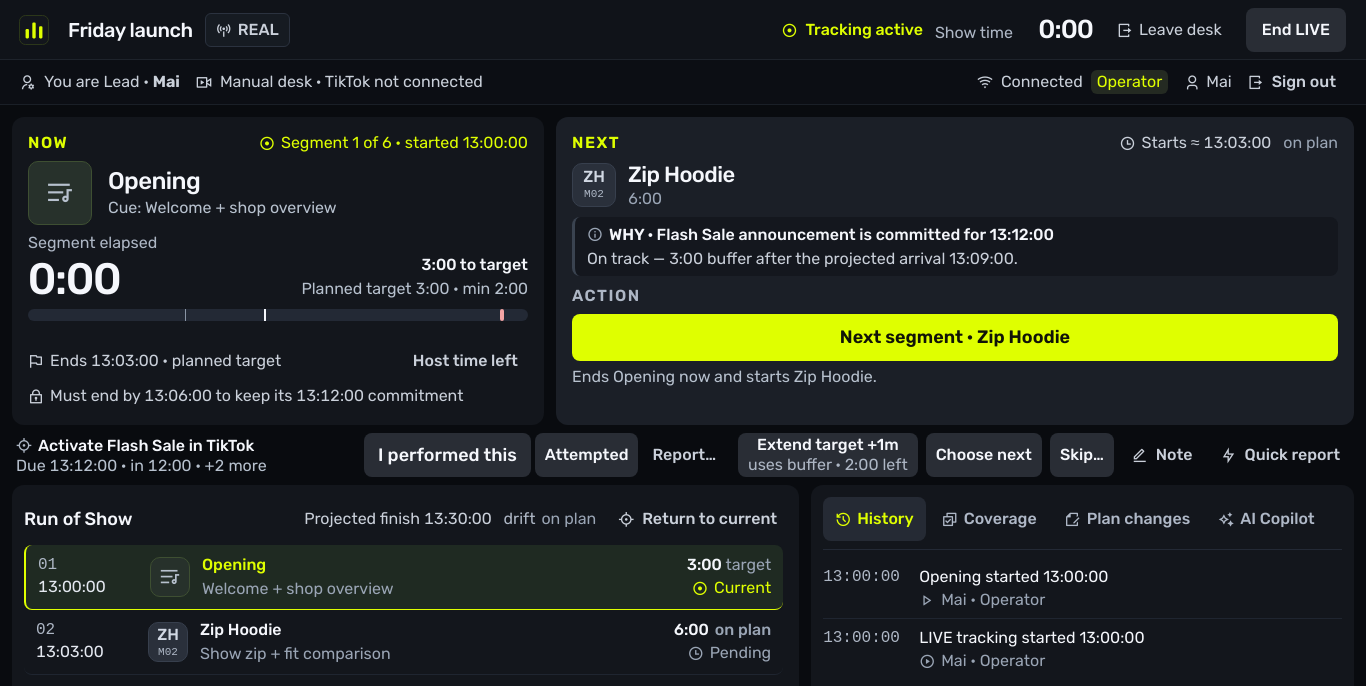
Test case: REAL Operate: operator › shows connected + operator, and a note is recorded by the room, not by the browser
Expected: the button with test id "extend-plus-one-btn" is shown, 738,433 -> 918,477
Expected: the text with test id "access-role" reads "Operator", 1097,72 -> 1162,91
Click the button with test id "quick-add-note-btn": (1162, 455) 1122,433 -> 1203,477
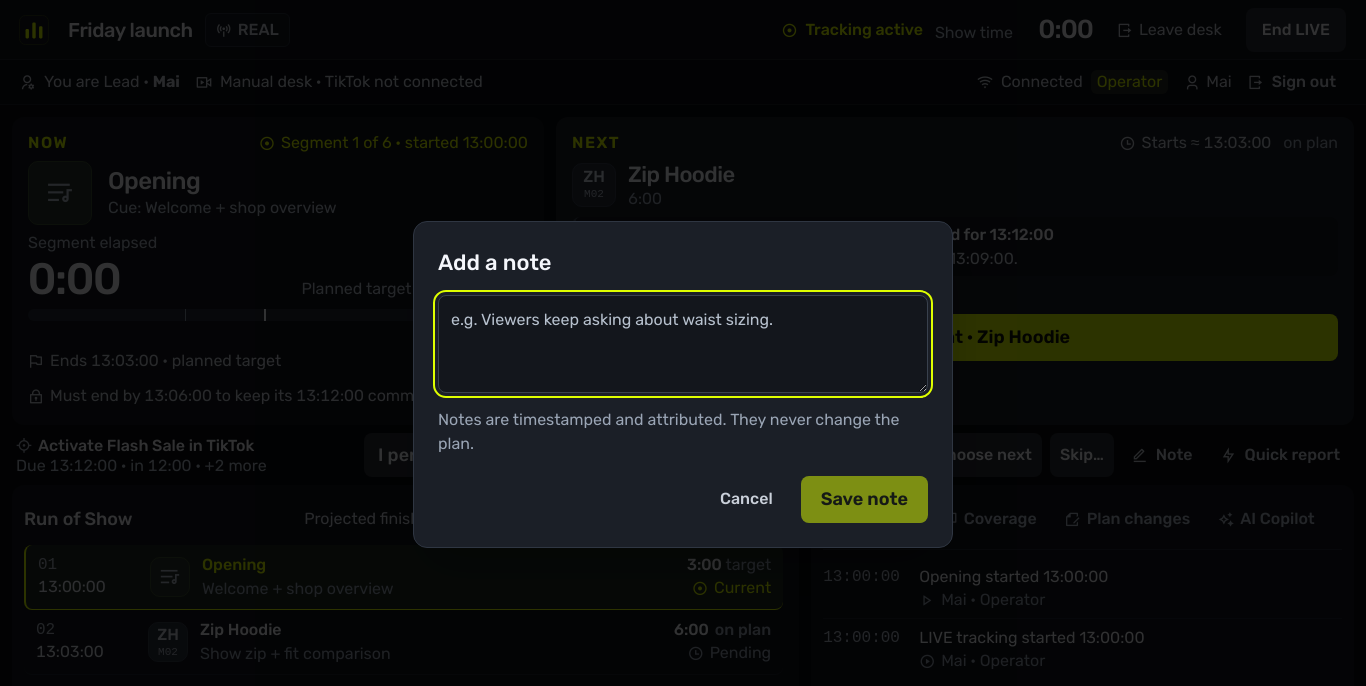
In the text box with test id "note-input": (683, 344) 438,294 -> 928,392, type "Sizing questions"
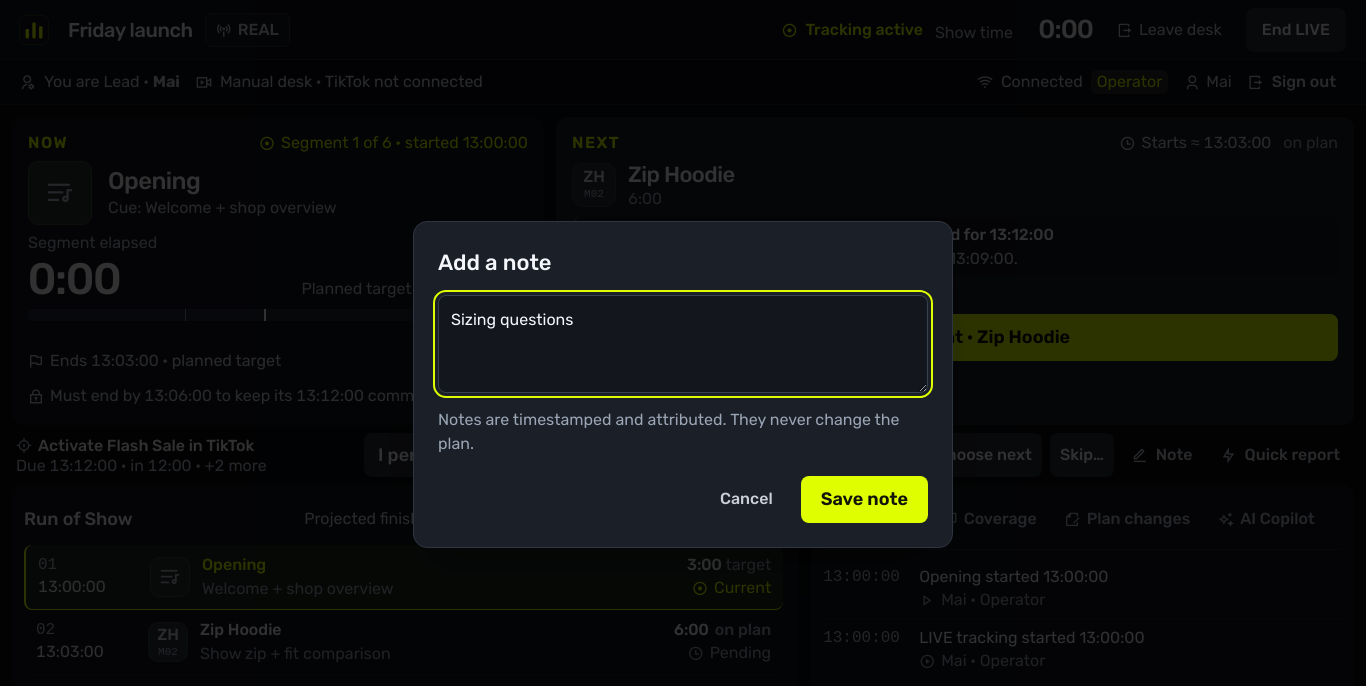
Click the button "Save note": (864, 499) 801,476 -> 928,522
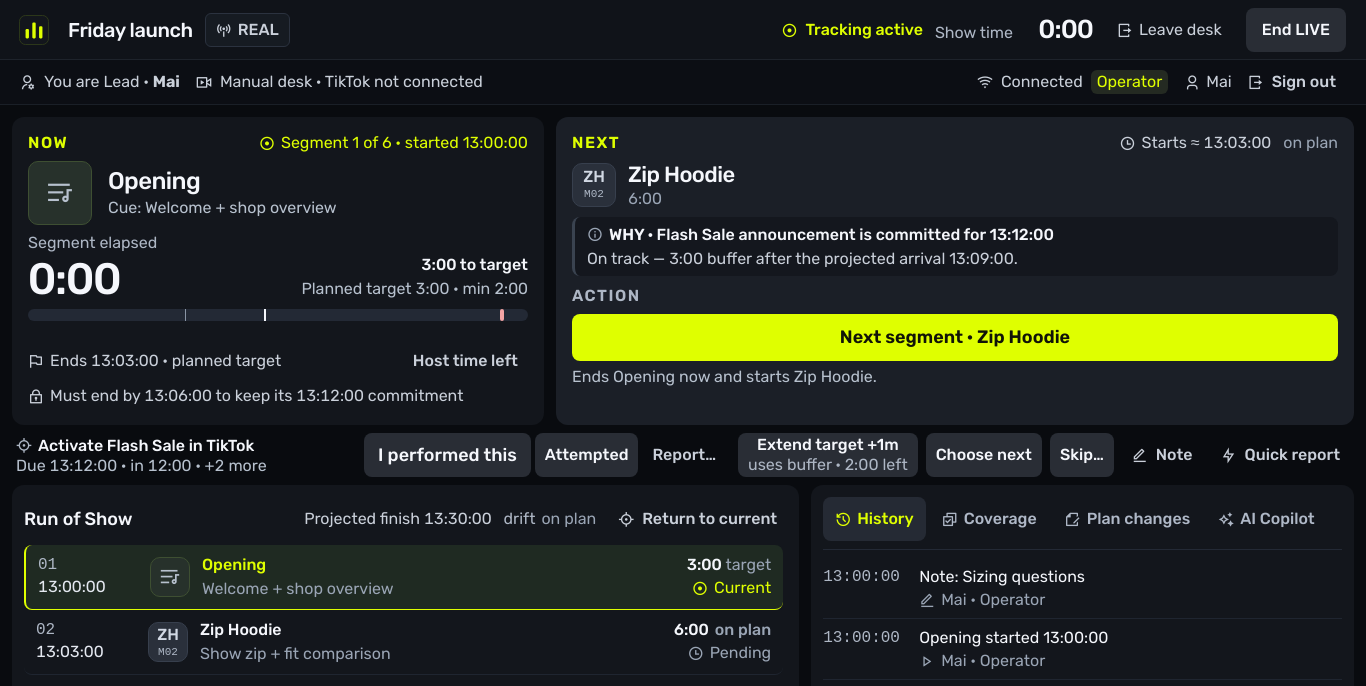
Now the dialog is gone
